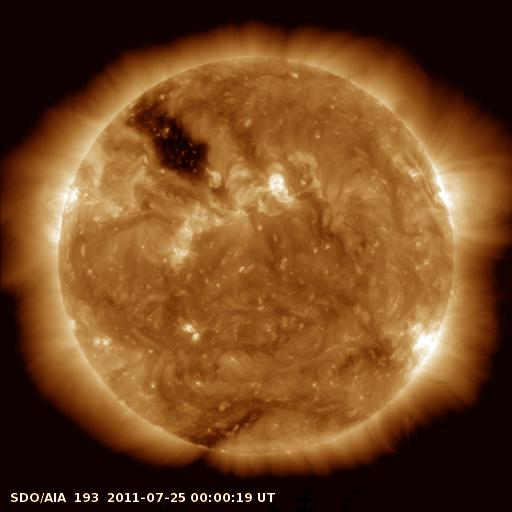coronal_hole: (124, 98, 209, 179)
